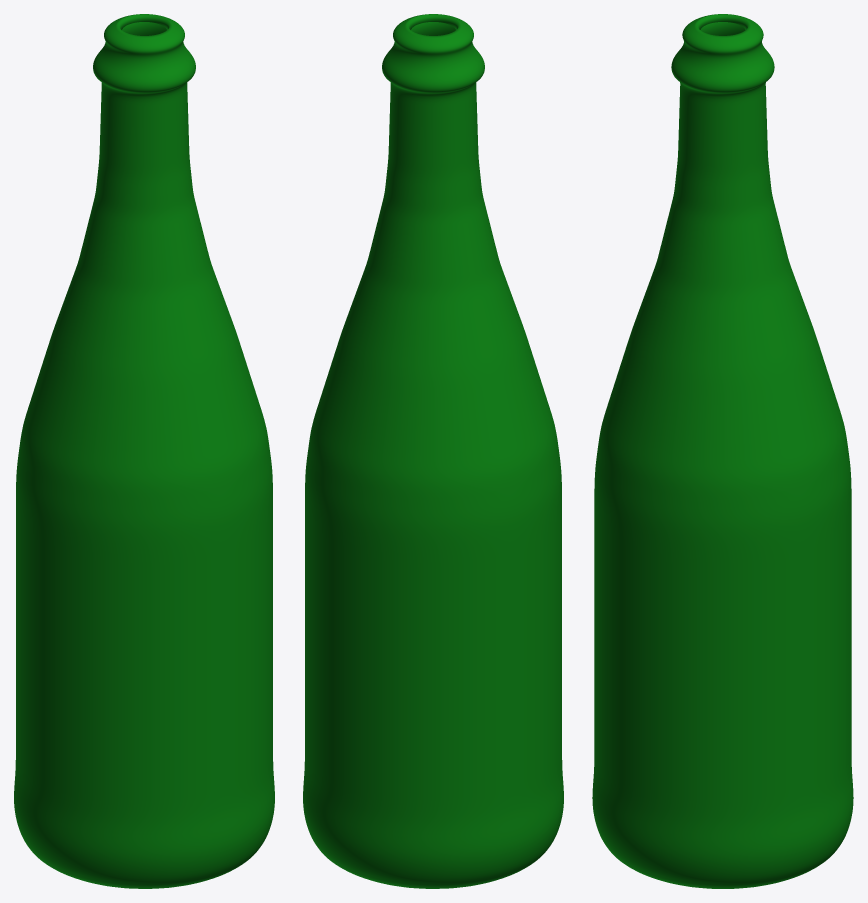
Rendered from trash-bouteille.fbx.
3 renders of one model, left to right at view 1: azimuth 30°, elevation 25°; view 2: azimuth 150°, elevation 25°; view 3: azimuth 270°, elevation 25°, orthographic.
Parts seen in each view (by area): view 1: Circle_Circle.001; view 2: Circle_Circle.001; view 3: Circle_Circle.001.
Boxes of the visible parts, x1,y1,x2,y2 form: Circle_Circle.001: (14, 14, 274, 888); Circle_Circle.001: (303, 14, 563, 888); Circle_Circle.001: (592, 14, 853, 888).
Bounding box in the file's own units: 128 × 446 × 128.
